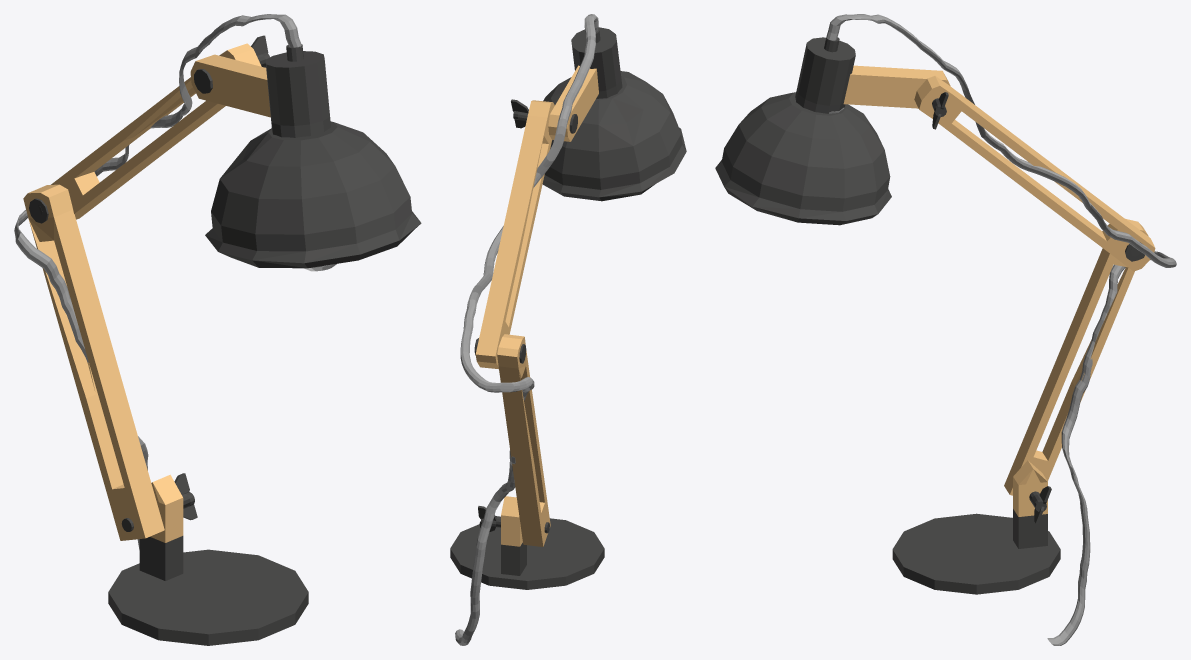
File: lmap.fbx
The picture shows the model from 3 angles, left to right: view 1: azimuth 30°, elevation 25°; view 2: azimuth 150°, elevation 25°; view 3: azimuth 270°, elevation 25°; orthographic projection. The views are drawn at different scales.
Parts seen in each view (by area): view 1: group64761282; view 2: group64761282; view 3: group64761282.
Boxes of the visible parts, left/top/right/bottom form: group64761282: left=14, top=14, right=421, bottom=645; group64761282: left=450, top=14, right=686, bottom=645; group64761282: left=715, top=14, right=1176, bottom=645.
Bounding box in the file's own units: 34.54 × 125 × 85.1.
